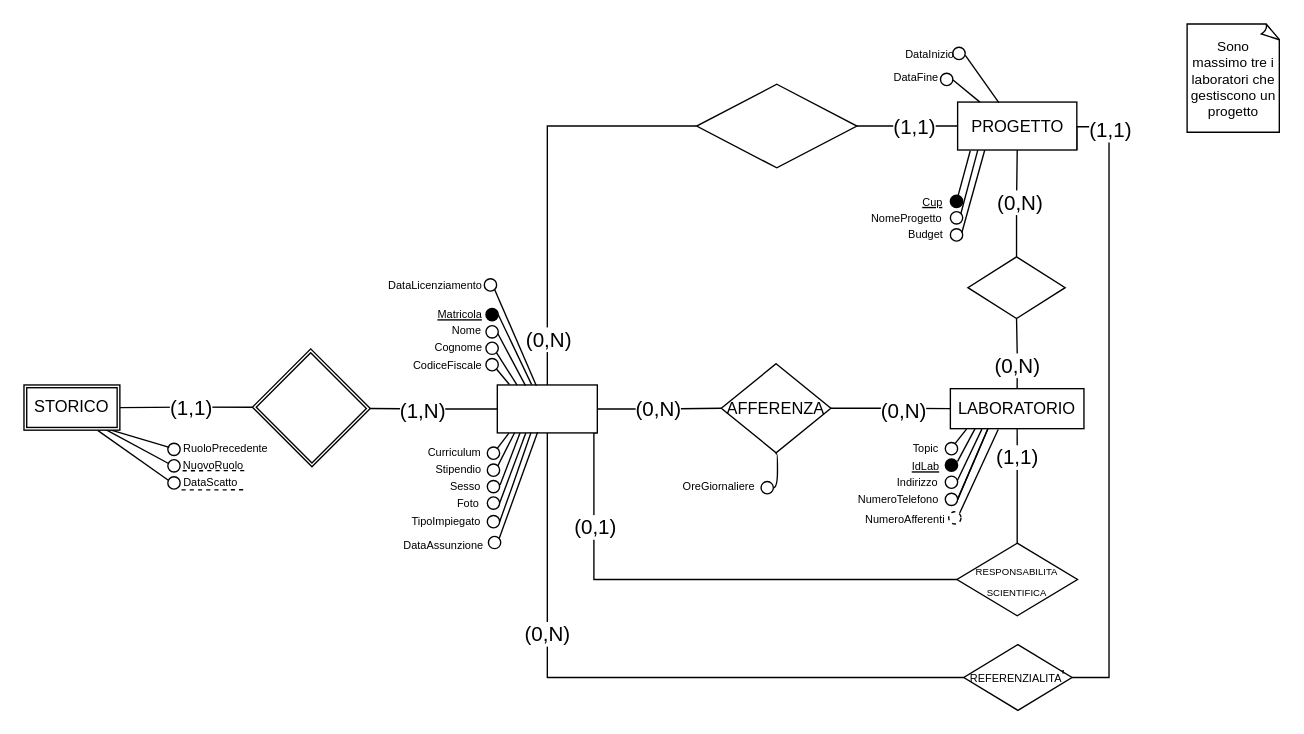
Image size: 1304x734. Some labels were removed from this diagram. The shapes that lost their labels are listed below. From the top down, each one's centre as x and y in pixels, then its label:
At point 776,125: "RESPONSABILITA".
At point 1016,287: "GESTIONE".
At point 311,407: "IDENTIFICANTE".
At point 546,408: "IMPIEGATO".
